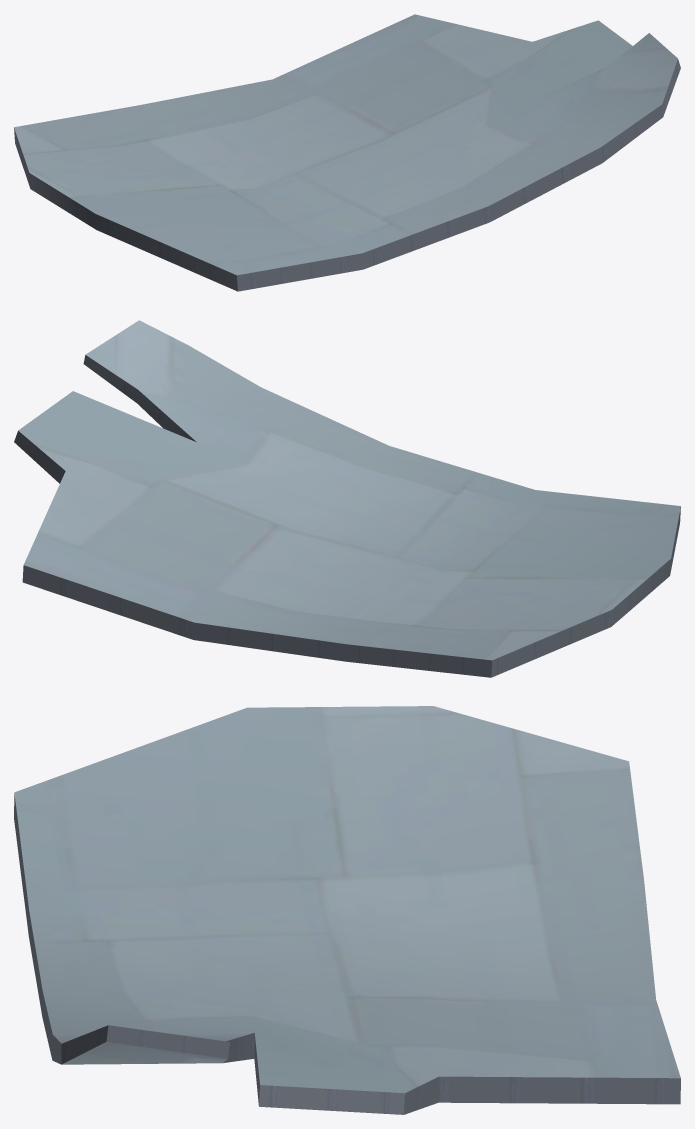
The model's file is S2 Panel.fbx.
3 views of the same model, one above another, from view 1: azimuth 30°, elevation 25°; view 2: azimuth 150°, elevation 25°; view 3: azimuth 270°, elevation 25° (orthographic). The views are drawn at different scales.
Visible parts, largest first — view 1: Panel; view 2: Panel; view 3: Panel.
Part boxes in pixels (left/top/right/bottom): Panel: left=14, top=14, right=680, bottom=291; Panel: left=14, top=320, right=680, bottom=677; Panel: left=14, top=706, right=680, bottom=1114.
Bounding box in the file's own units: 377 × 72.13 × 250.
